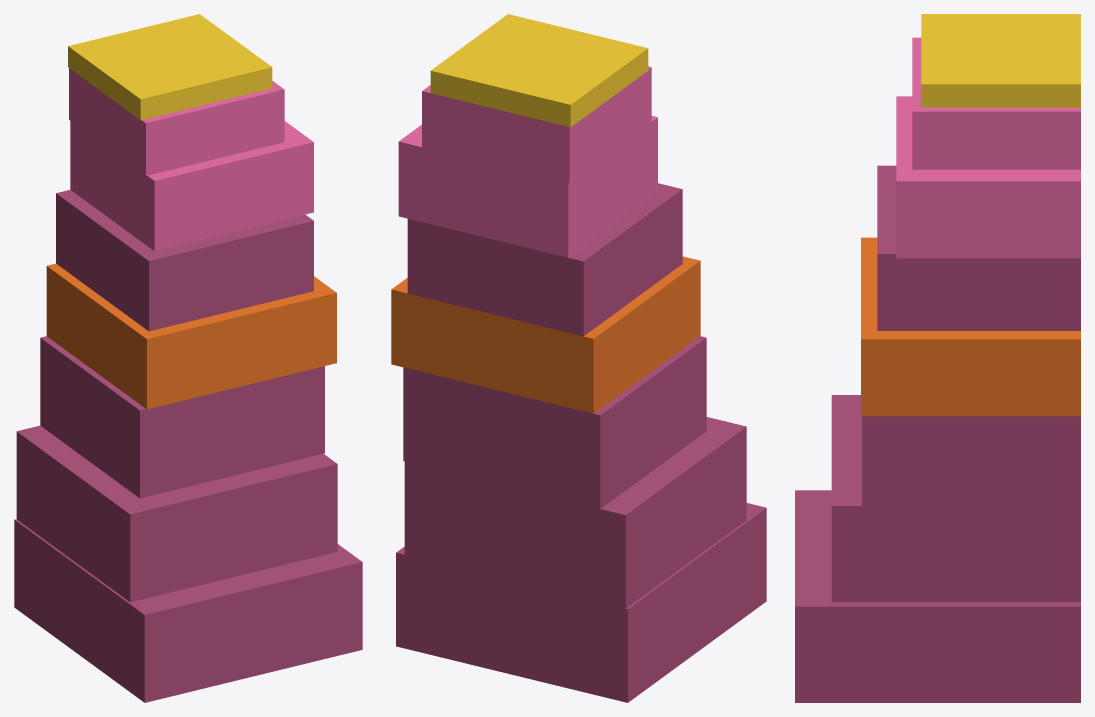
The model's file is DesertButtress.obj.
3 renders of one model, left to right at view 1: azimuth 30°, elevation 25°; view 2: azimuth 150°, elevation 25°; view 3: azimuth 270°, elevation 25°, orthographic. The views are drawn at different scales.
Parts seen in each view (by area): view 1: DesertButtress; view 2: DesertButtress; view 3: DesertButtress.
Part boxes in pixels (x1,y1,x2,y2): DesertButtress: (14, 14, 362, 702); DesertButtress: (391, 14, 766, 702); DesertButtress: (795, 14, 1080, 702).
Bounding box in the file's own units: 6.61 × 15.6 × 6.72.
